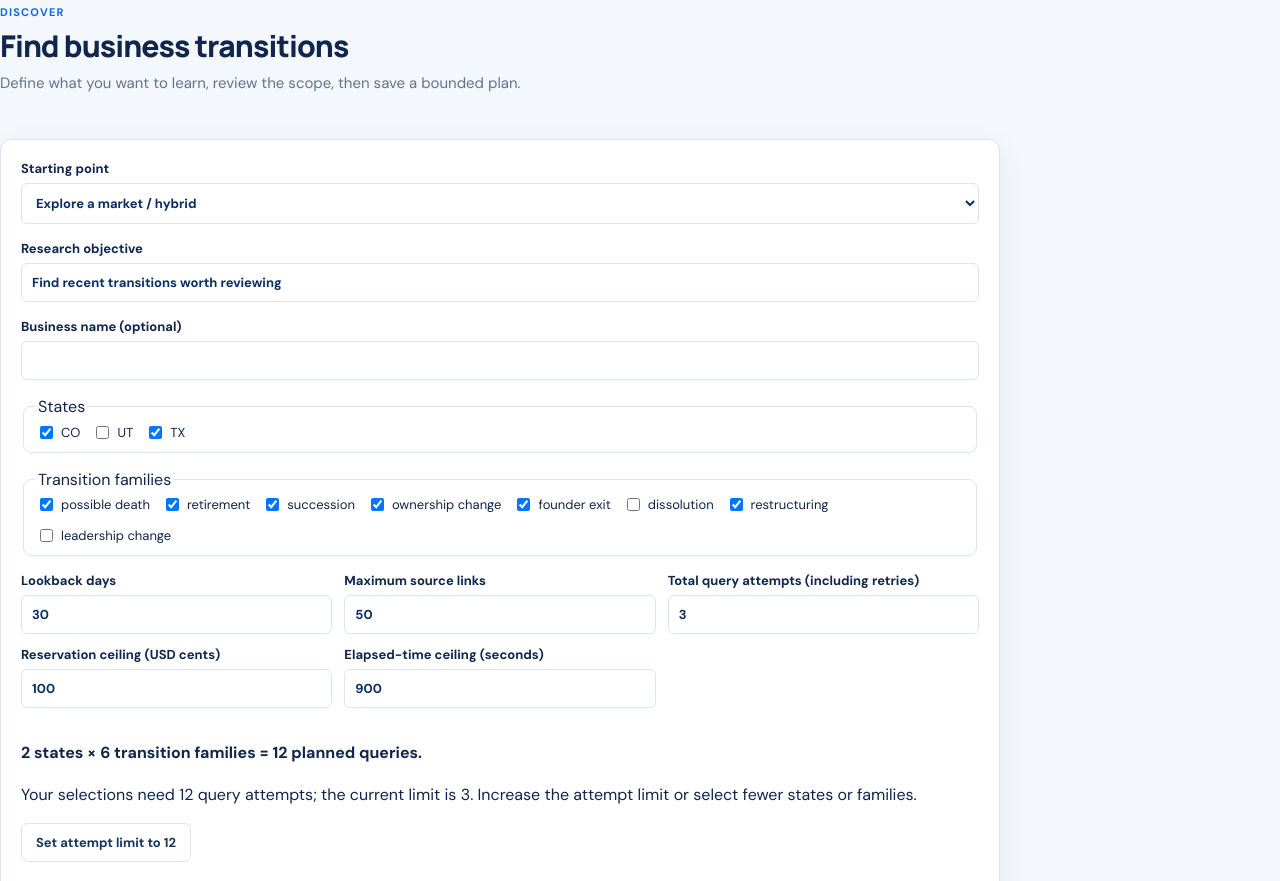
Test: explains the reported two-state six-family scope and adjusts attempts only on request
This screenshot has width=1280, height=881.
Check: the text "2 states × 6 transition families = 12 planned queries." is shown, box [21,742,422,763]
Check: the number field labelled "Total query attempts (including retries)" holds "3", box [668,595,979,634]
Step 1. Click the button "Set attempt limit to 12" → (106, 843), box [21,824,191,862]
(page scrolled)
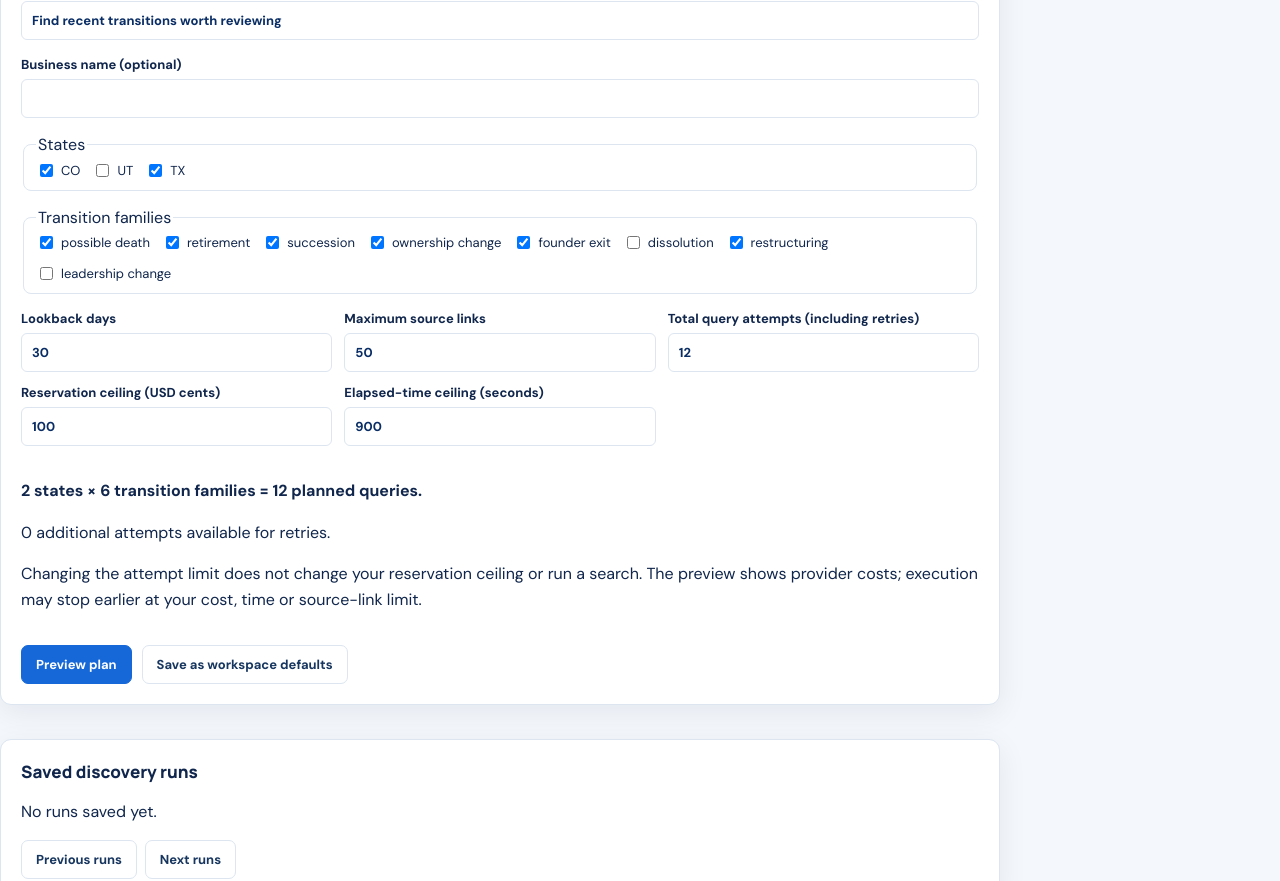
Check: the number field labelled "Reservation ceiling (USD cents)" holds "100", box [21,407,332,446]
Check: the number field labelled "Total query attempts (including retries)" holds "12", box [668,333,979,372]
Check: the button "Preview plan" is enabled
Step 2. Click the button "Preview plan" → (76, 664), box [21,645,132,684]
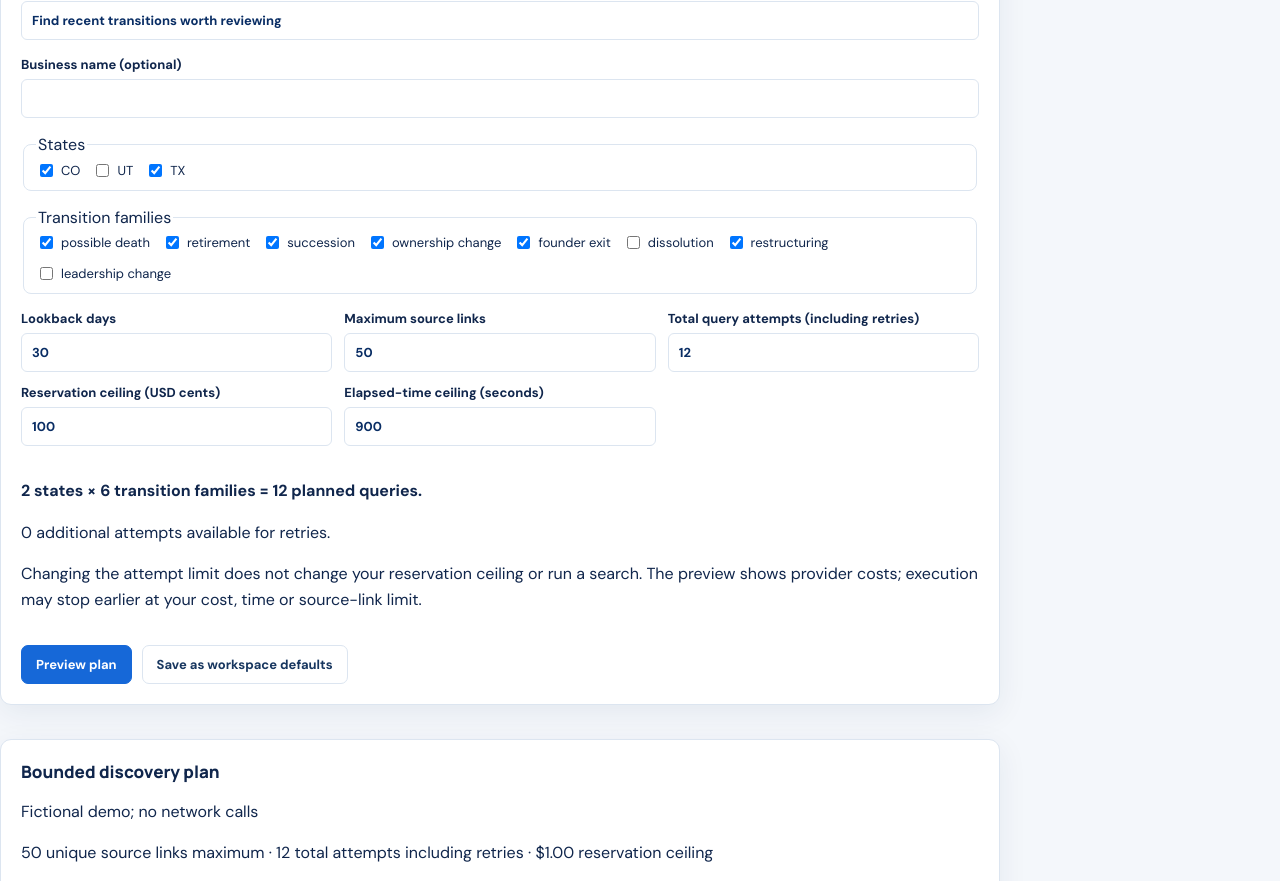
Check: the heading "Bounded discovery plan" is shown, box [21,760,220,783]
Step 3. Click the checkbox labelled "CO" → (46, 170), box [40,164,53,177]
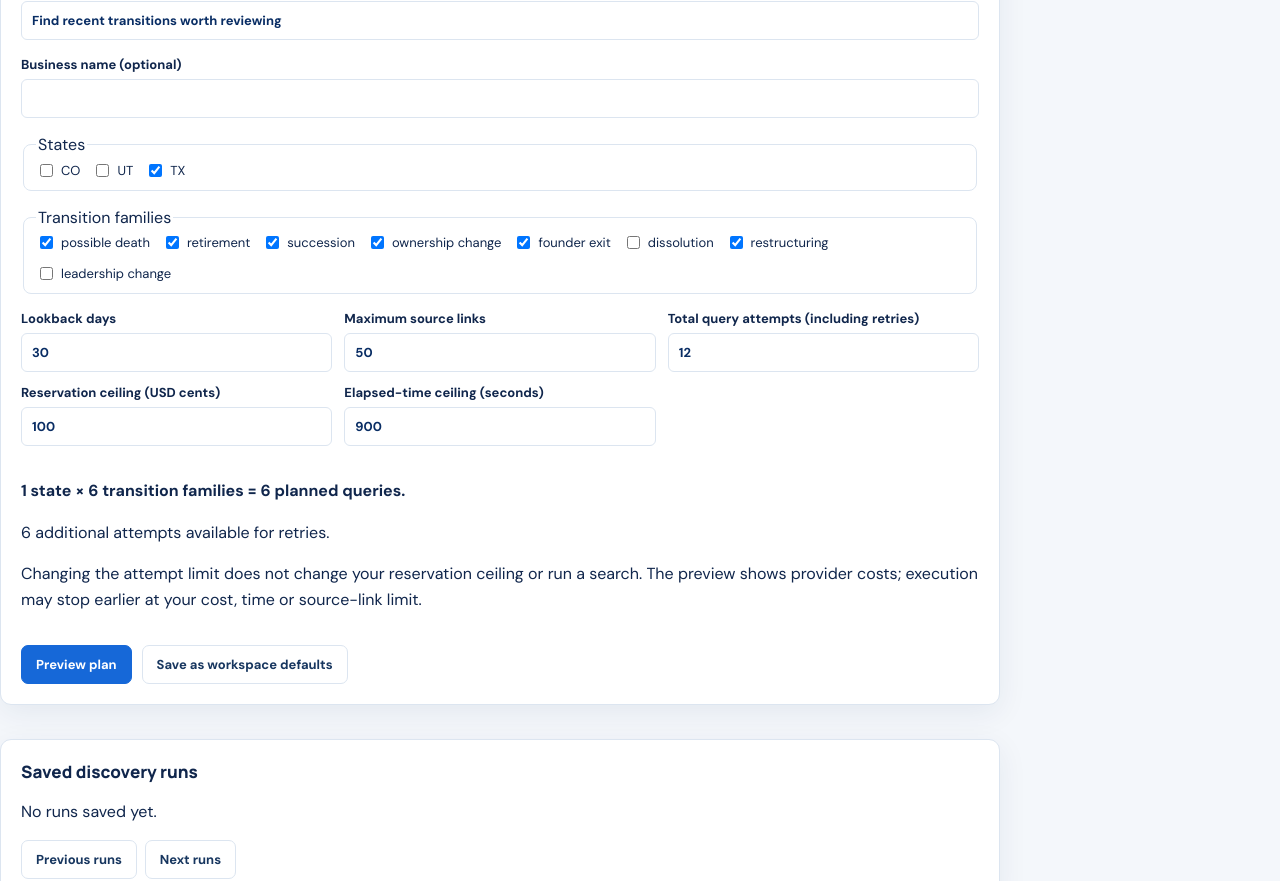
Step 4. Click the checkbox labelled "TX" → (156, 170), box [149,164,162,177]
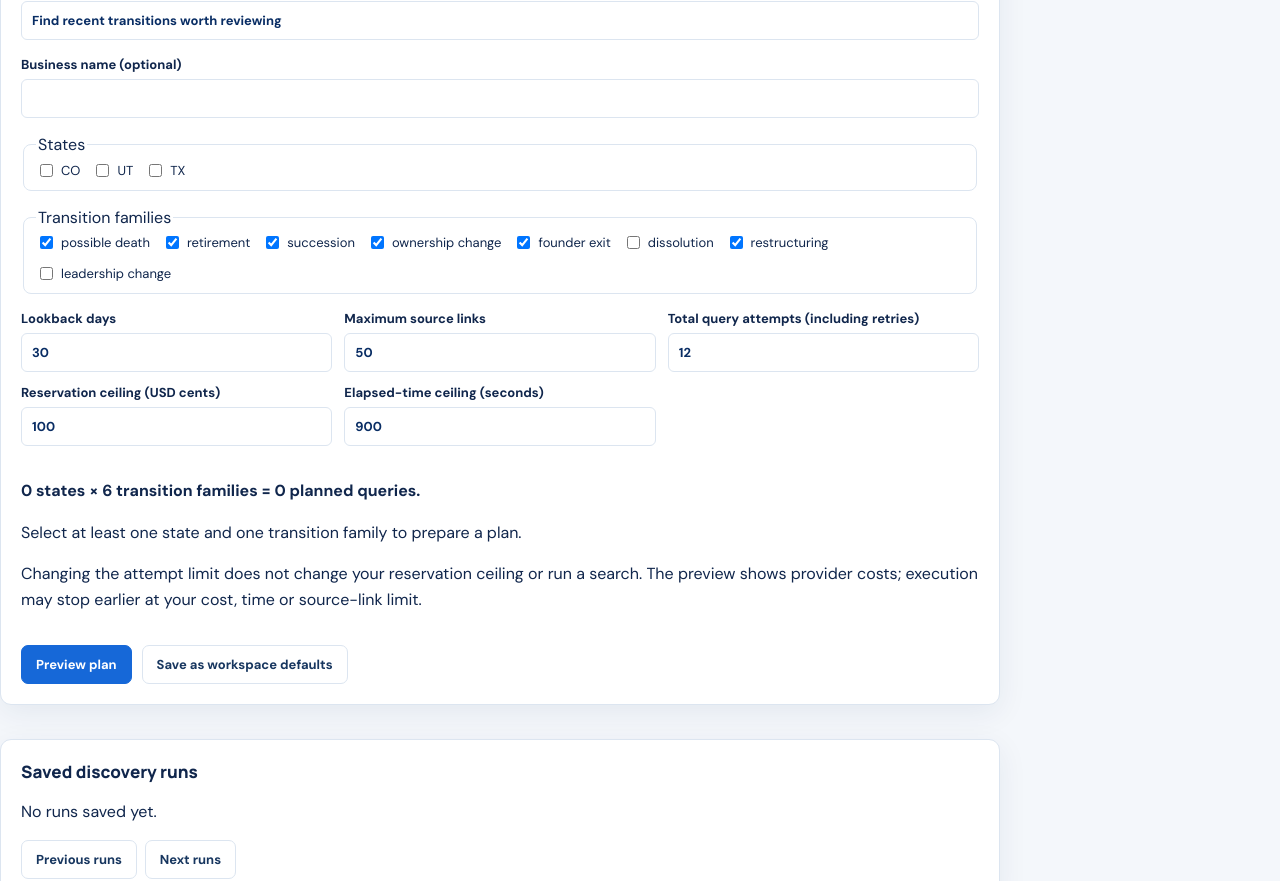
Check: the button "Preview plan" is disabled, box [21,645,132,684]
Check: the text "Select at least one state and one transition family to prepare a plan." is shown, box [21,522,522,543]
